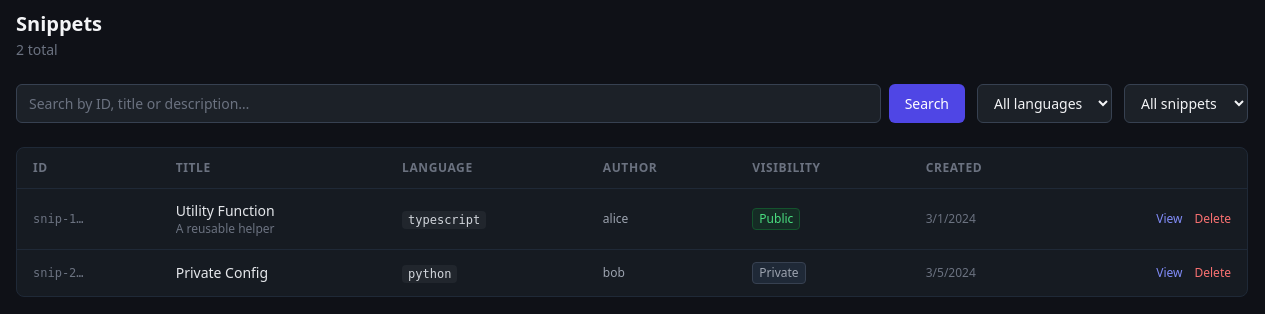
Test: AdminSnippetsPage › removes the deleted snippet row from the table
Check: the text "Utility Function" is shown, box [176,201,275,220]
Step 1. Click the button "Delete" in the row of "snip-1" → [1213, 219], box [1194,211,1231,227]
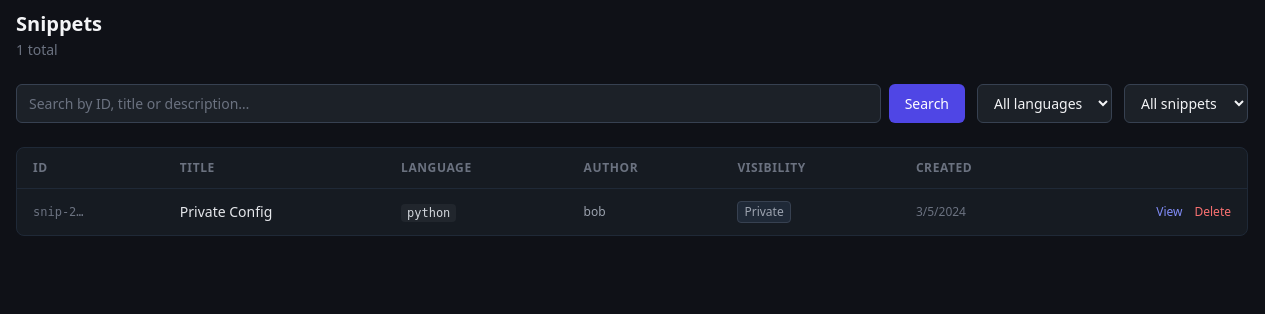
Check: the text "Utility Function" is gone
